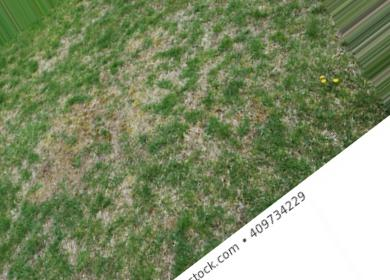patch: (42, 141, 95, 195), (153, 44, 222, 85), (108, 85, 152, 129), (184, 130, 228, 166)
